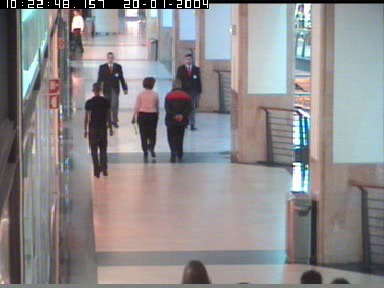person: (83, 84, 112, 179), (131, 77, 159, 157), (164, 80, 191, 162), (98, 52, 127, 127), (175, 53, 201, 131), (180, 260, 210, 284), (71, 9, 85, 54)
